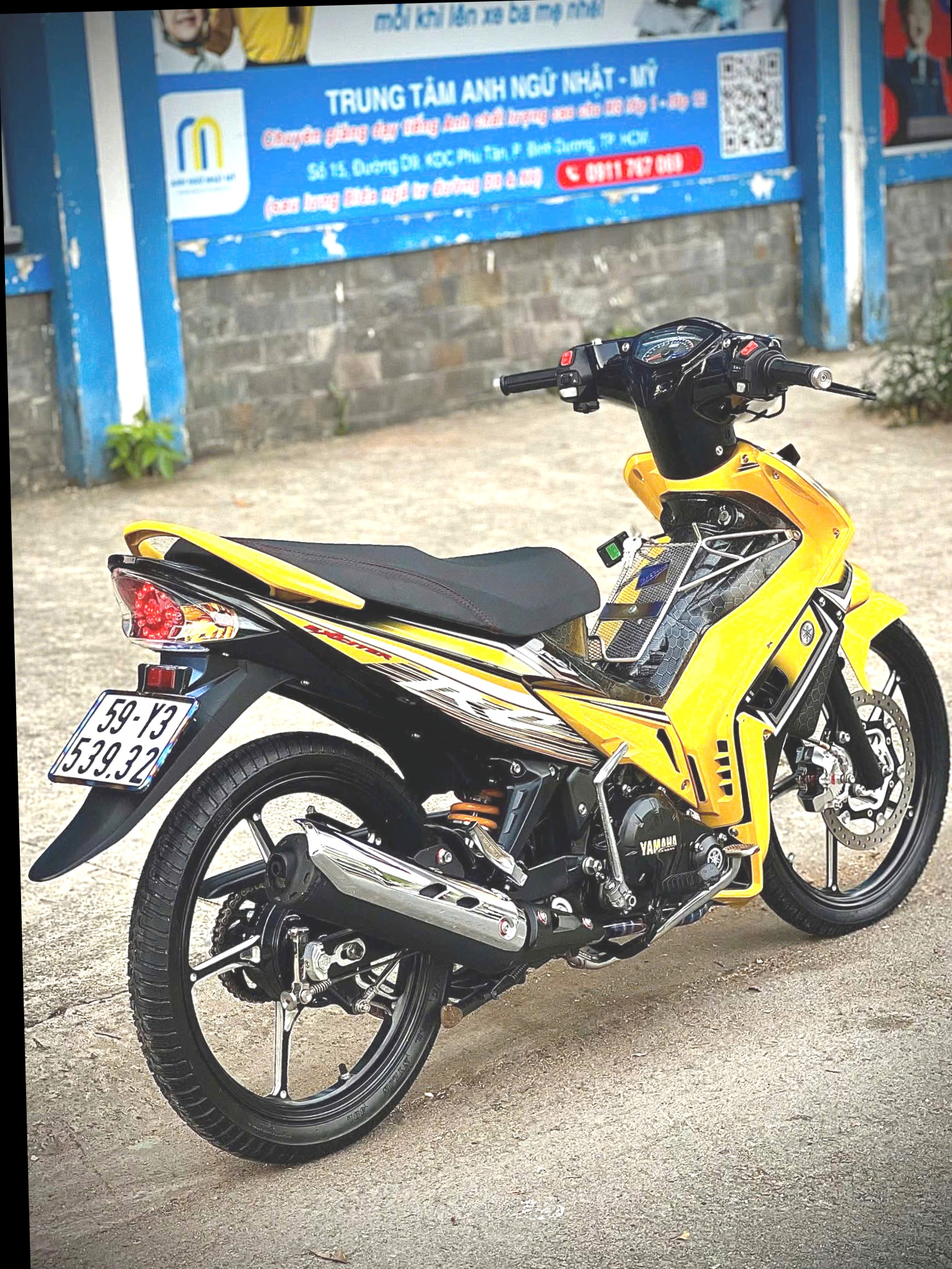Bien-so: (43, 659, 206, 754)
